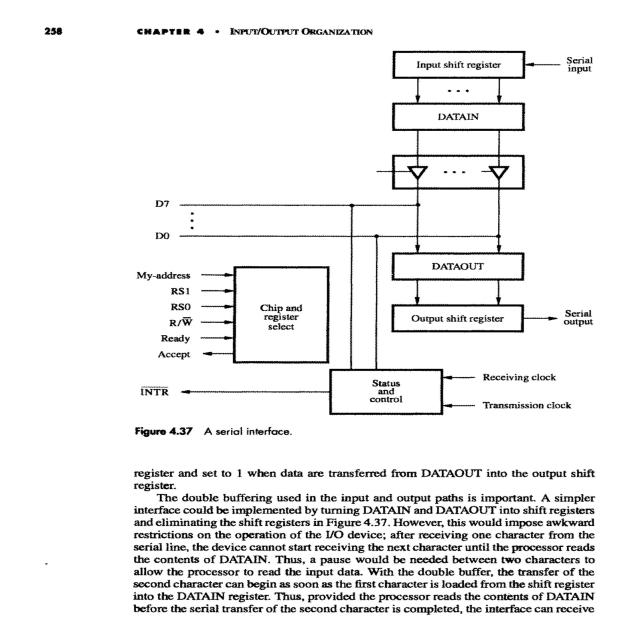diagram: (118, 41, 628, 447)
